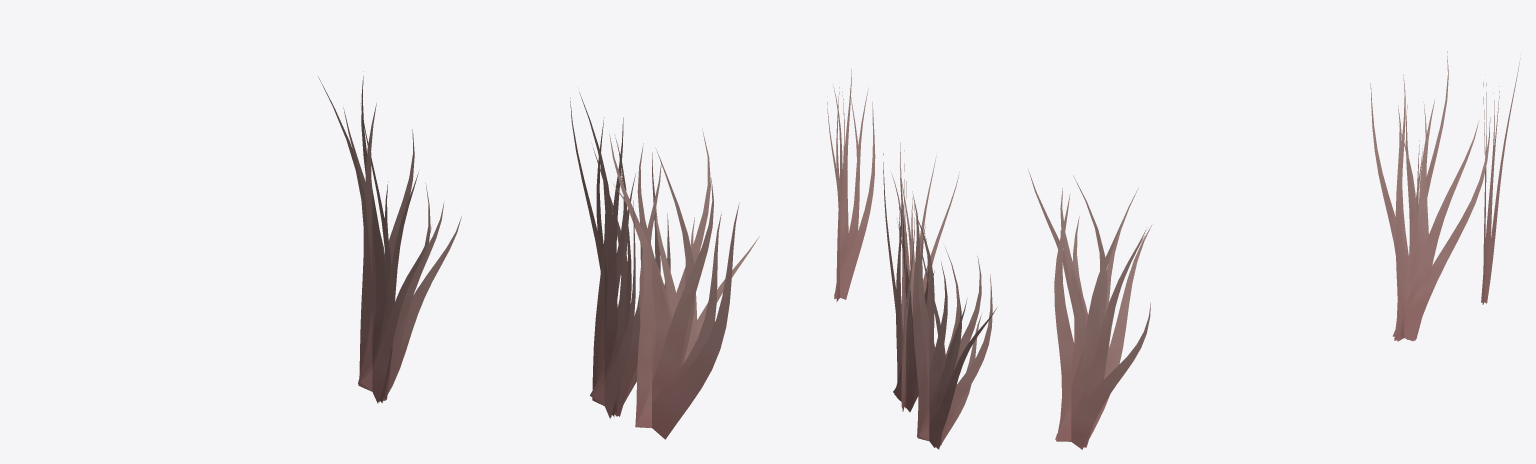
File: mesh-plant-025-lace-fan_LOD0.glb
3 views of the same model, side by side, from view 1: azimuth 30°, elevation 25°; view 2: azimuth 150°, elevation 25°; view 3: azimuth 270°, elevation 25° (orthographic). The views are drawn at different scales.
Visible parts, largest first — view 1: geometry_0; view 2: geometry_0; view 3: geometry_0.
Boxes of the visible parts, left/top/right/bottom form: geometry_0: left=318, top=71, right=759, bottom=439; geometry_0: left=827, top=69, right=997, bottom=449; geometry_0: left=1028, top=51, right=1520, bottom=449.
Size of the model in its own units: 1.53 by 0.9735 by 1.42.
